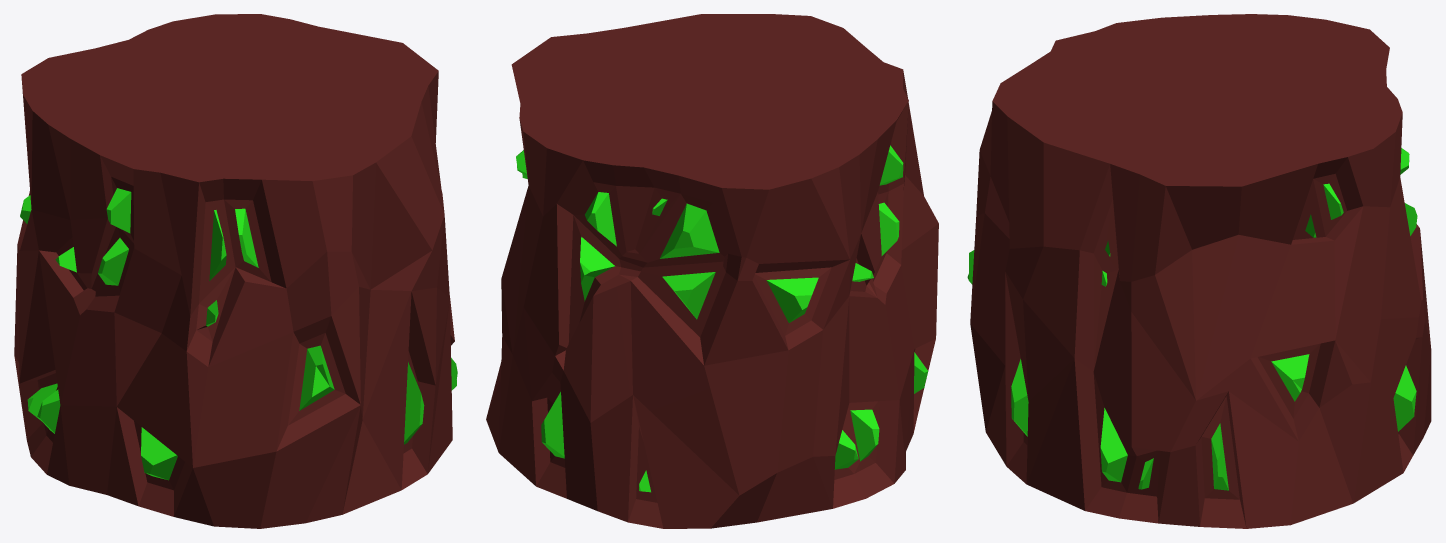
Rendered from Stone_3_1.fbx.
The picture shows the model from 3 angles, left to right: view 1: azimuth 30°, elevation 25°; view 2: azimuth 150°, elevation 25°; view 3: azimuth 270°, elevation 25°; orthographic projection.
Parts seen in each view (by area): view 1: Rock_3_1; view 2: Rock_3_1; view 3: Rock_3_1.
Part boxes in pixels (x1,y1,x2,y2): Rock_3_1: (14,14,457,528); Rock_3_1: (486,14,938,528); Rock_3_1: (967,14,1431,528).
Bounding box in the file's own units: 17.91 × 15 × 18.66.
